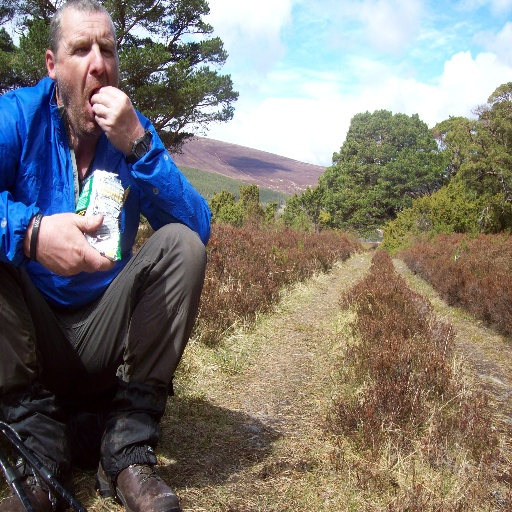hand: (25, 194, 116, 279), (88, 84, 144, 155)
